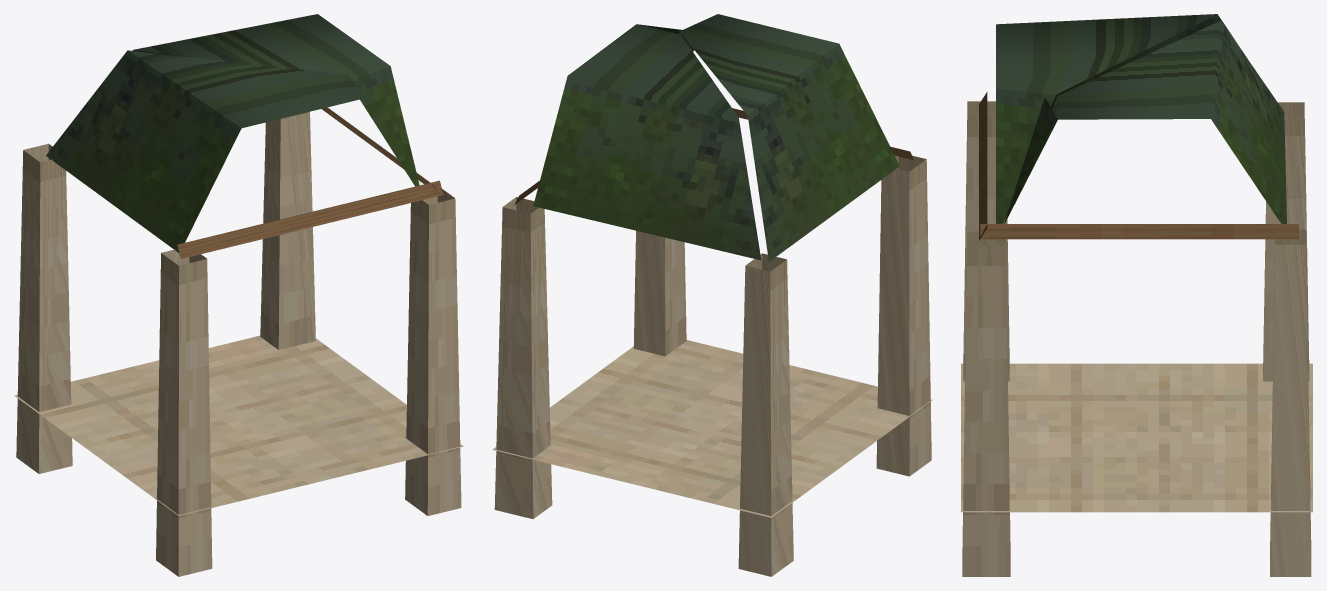
The model's file is thm_nboo_imprv_arbor_corner_90_s01_l3.fbx.
3 renders of one model, left to right at view 1: azimuth 30°, elevation 25°; view 2: azimuth 150°, elevation 25°; view 3: azimuth 270°, elevation 25°, orthographic. The views are drawn at different scales.
Parts seen in each view (by area): view 1: mesh_node; view 2: mesh_node; view 3: mesh_node.
Part boxes in pixels (bbox=[...]): mesh_node: bbox=[14, 14, 463, 576]; mesh_node: bbox=[492, 14, 932, 576]; mesh_node: bbox=[961, 14, 1312, 576].
Bounding box in the file's own units: 4 × 5.66 × 4.
